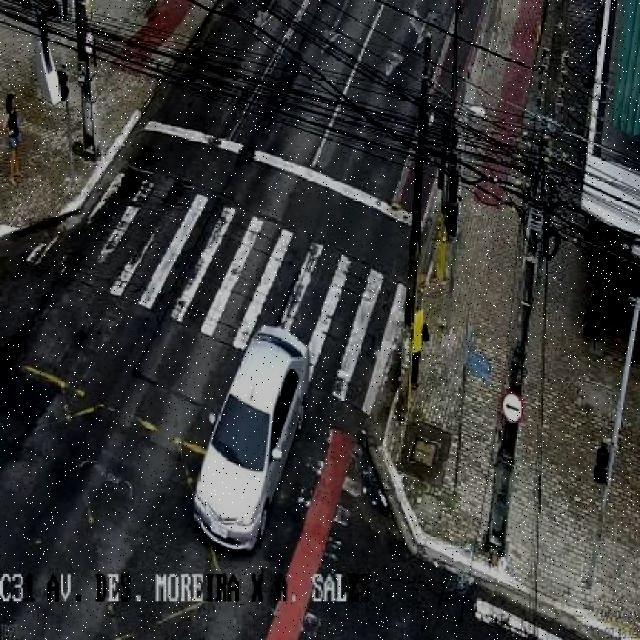Cycle: (184, 320, 316, 562)
